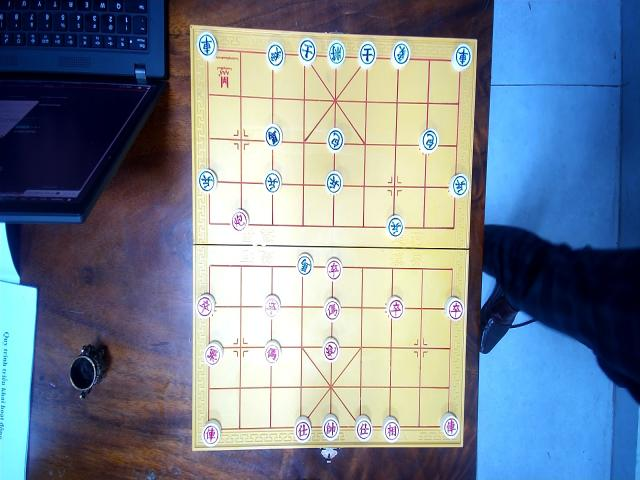piece: (450, 42, 472, 70), (448, 171, 469, 199), (197, 31, 217, 60), (202, 420, 222, 447), (439, 412, 459, 439), (418, 127, 438, 154), (202, 341, 222, 368), (390, 41, 410, 68), (326, 40, 346, 67), (381, 415, 400, 442), (266, 41, 285, 68), (298, 37, 317, 64), (444, 296, 464, 321), (354, 415, 373, 441), (294, 416, 312, 443), (322, 337, 340, 363), (196, 292, 214, 318), (358, 40, 376, 66), (322, 414, 339, 441), (386, 214, 404, 239), (198, 167, 216, 192), (324, 256, 342, 280), (386, 295, 404, 319), (326, 127, 344, 151), (324, 170, 342, 194), (324, 297, 341, 322), (264, 124, 281, 149), (264, 339, 280, 364), (231, 207, 248, 230), (264, 294, 280, 317), (296, 252, 312, 275), (264, 170, 280, 193)
